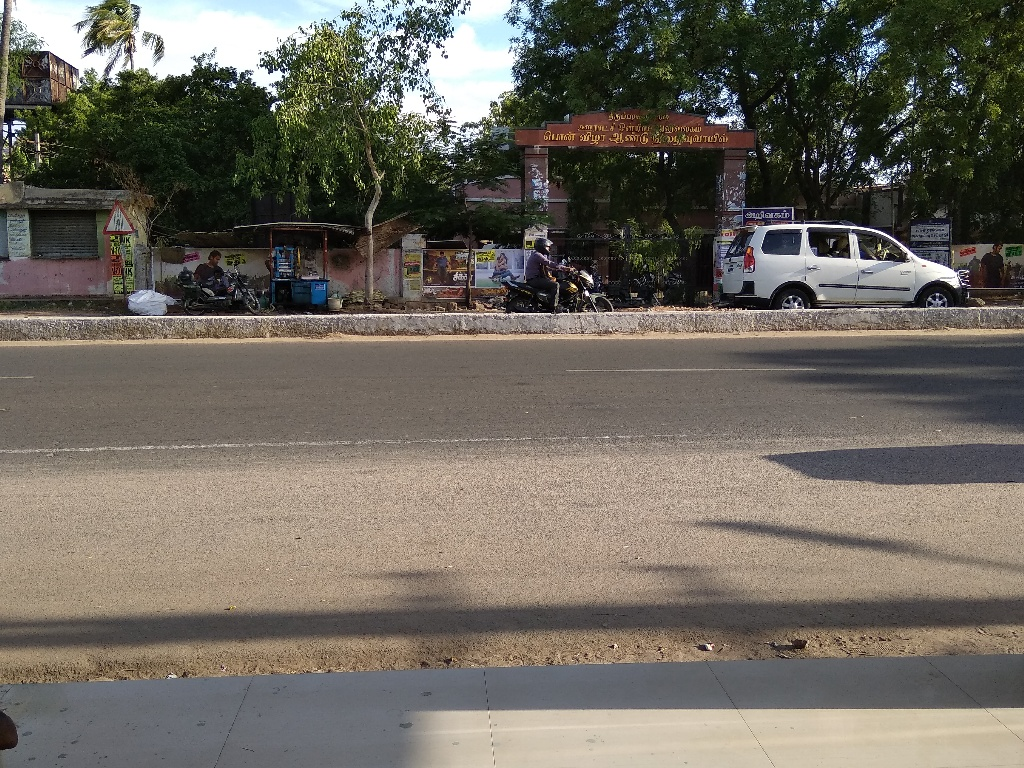biker: (494, 213, 624, 315)
helmet: (527, 225, 562, 269)
